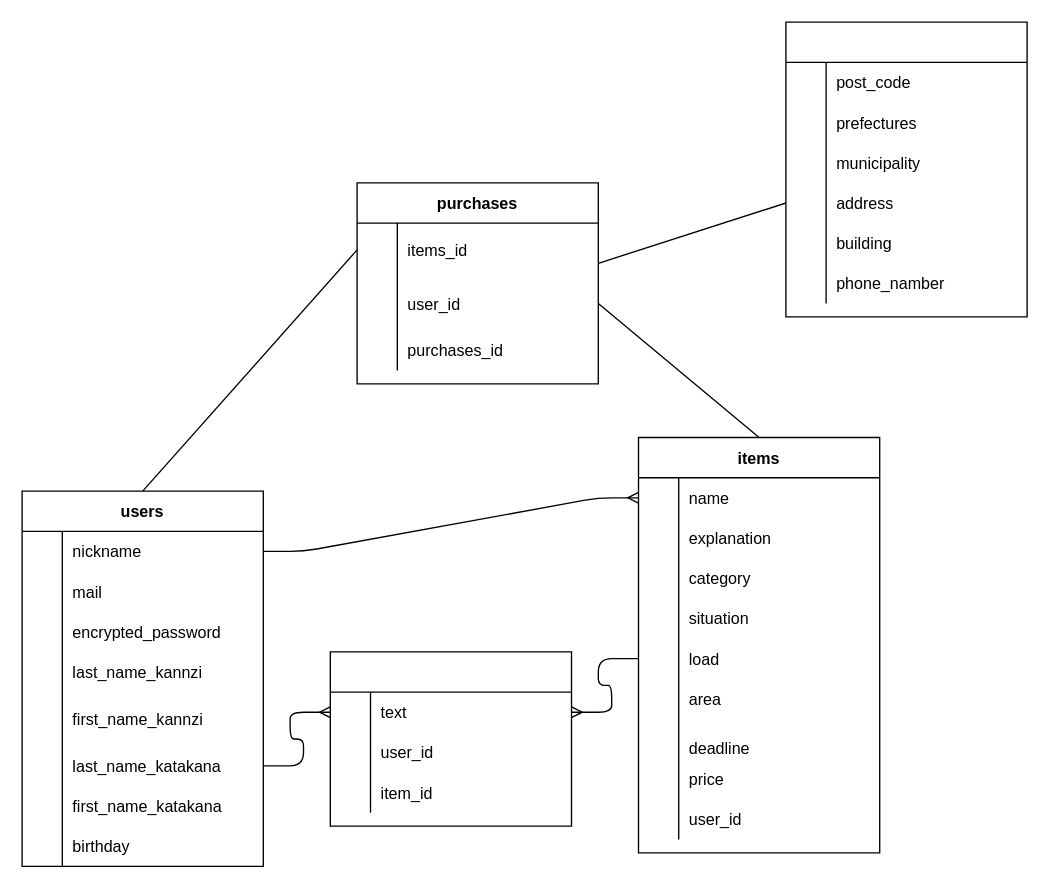
Image size: 1049x888. Some labels were removed from this diagram. Each missing label, with the box of its shape:
comments: (329, 651, 572, 826)
shippings: (785, 21, 1027, 317)
